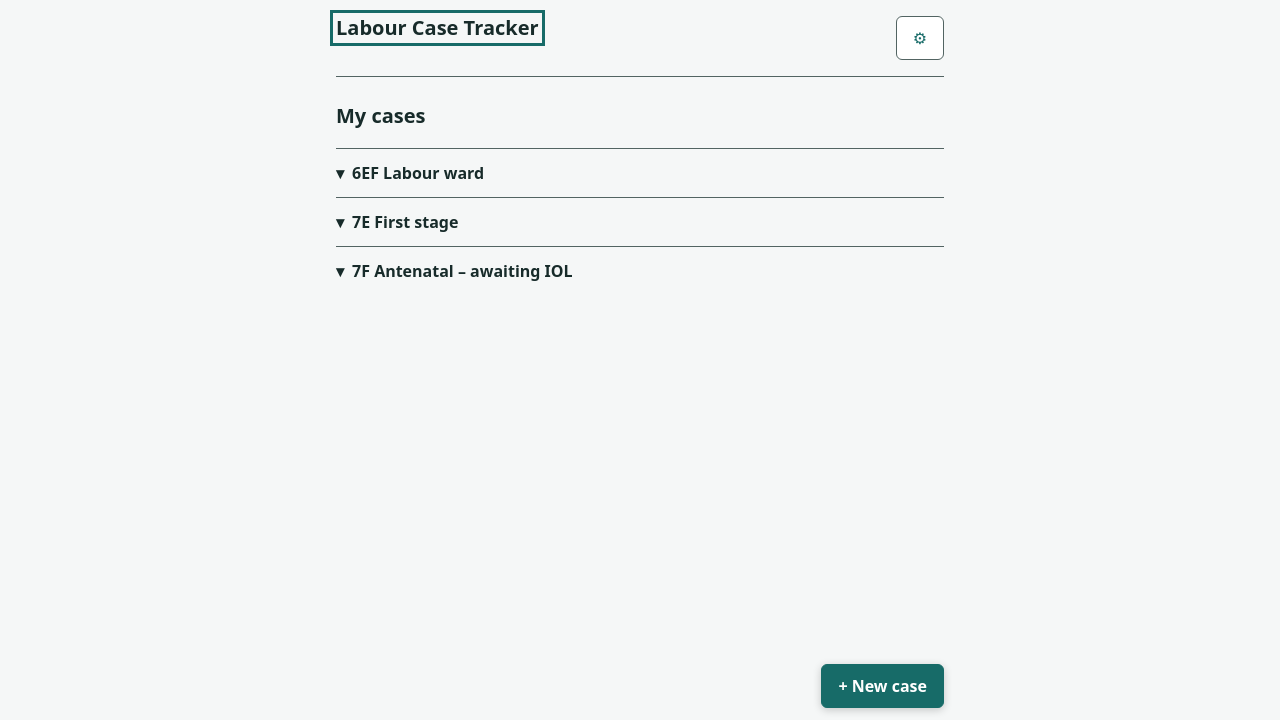
it: App › saves the dark theme, restores defaults and requires typed erase confirmation
The width and height of the screenshot is (1280, 720).
Click the button named "Settings" at coordinates (920, 38), box [896,16,944,60]
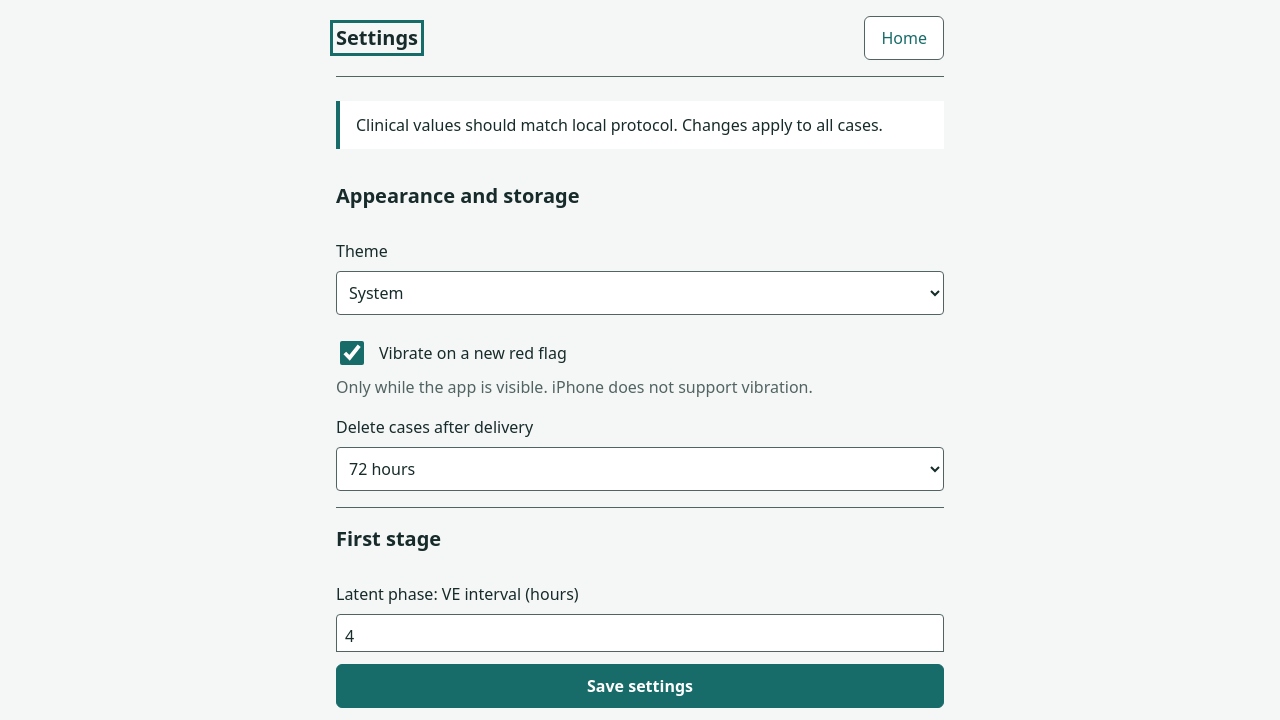
Select "Dark" in the dropdown labelled "Theme" at coordinates (640, 293), box [336,271,944,315]
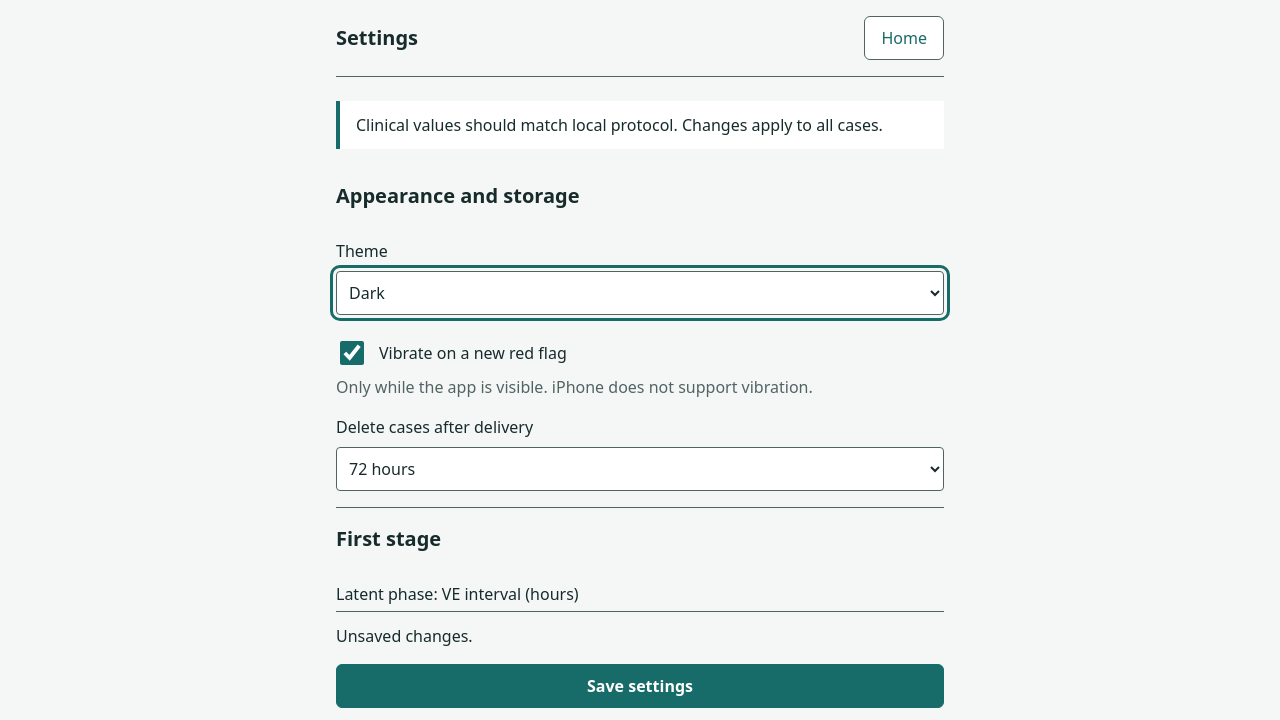
Click the button "Save settings" at coordinates (640, 686), box [336,664,944,708]
(page scrolled)
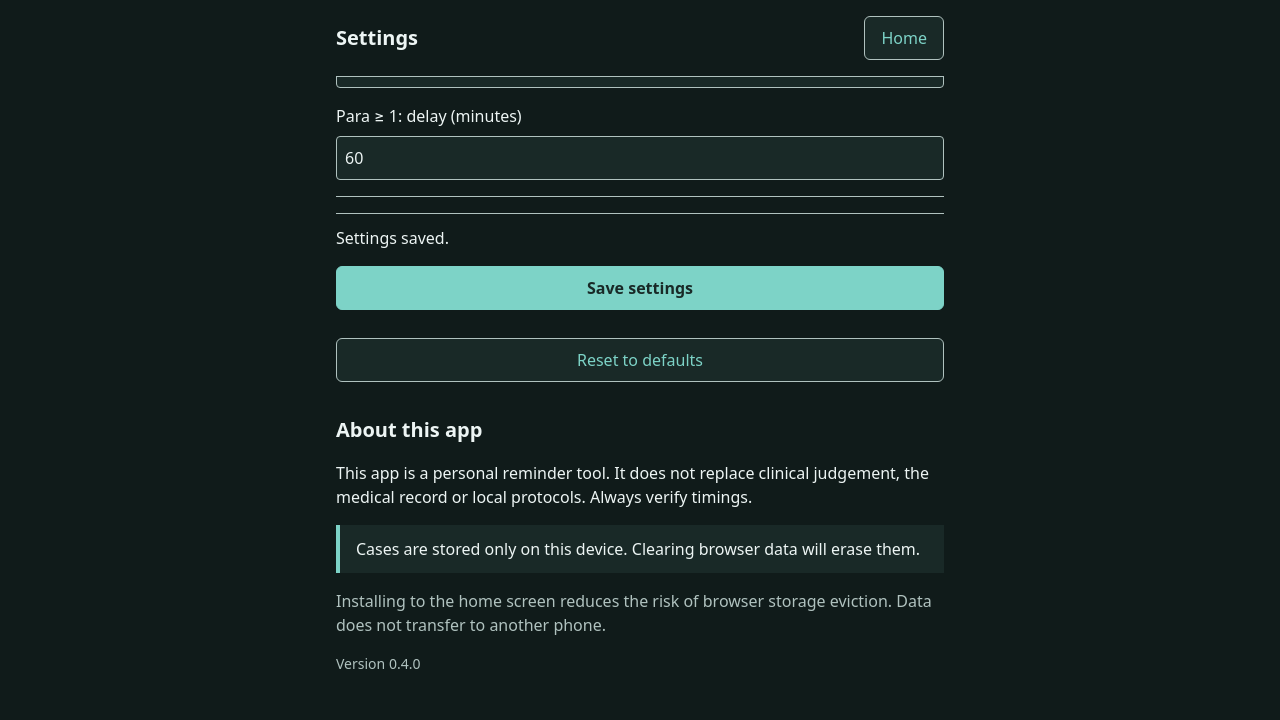
expect the text "Settings saved." is shown: met, box [336,227,449,249]
Click the button "Reset to defaults" at coordinates (640, 360), box [336,338,944,382]
(page scrolled)
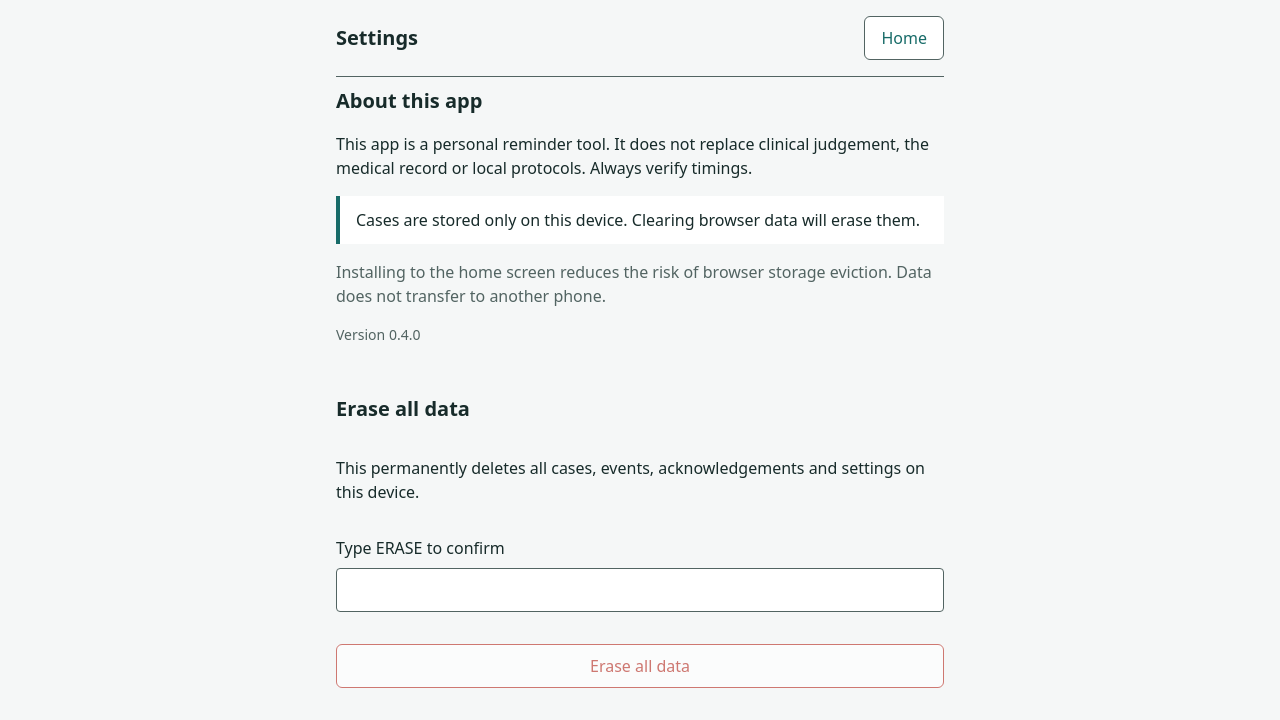
expect the button "Erase all data" is disabled: met, box [336,644,944,688]
Type "ERASE" into the field labelled "Type ERASE to confirm" at coordinates (640, 590), box [336,568,944,612]
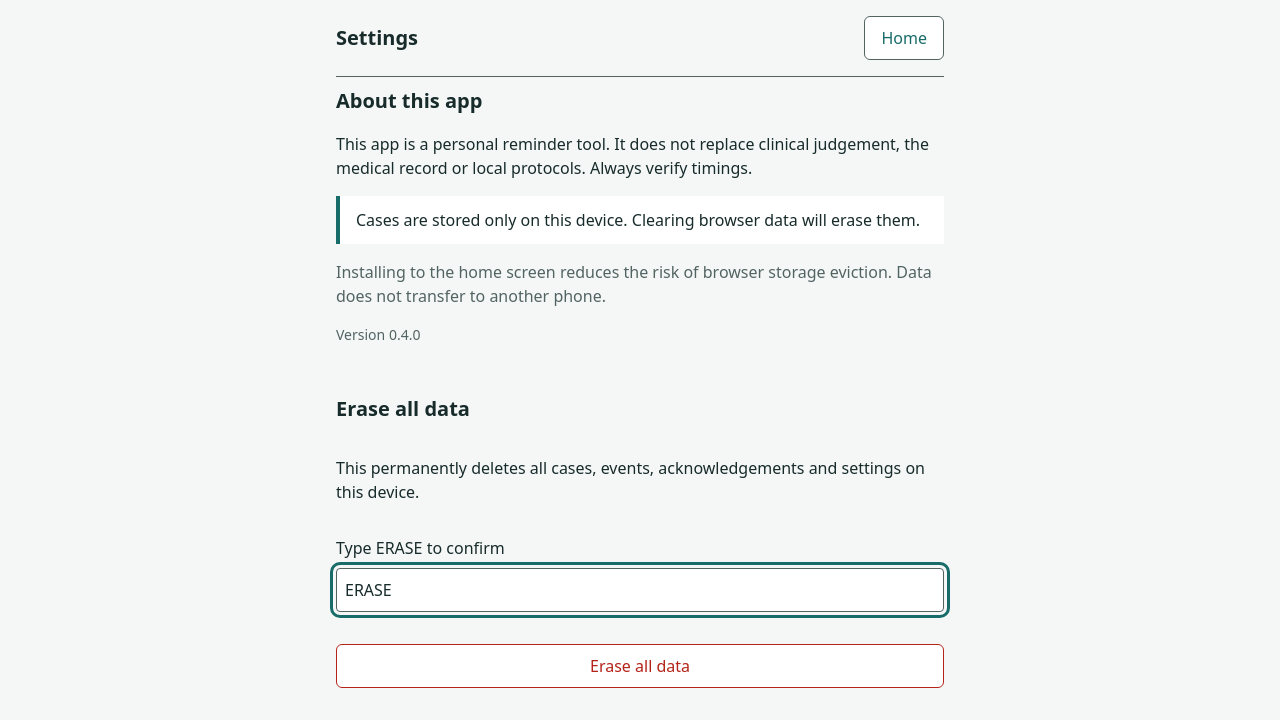
Click the button "Erase all data" at coordinates (640, 666), box [336,644,944,688]
(page scrolled)
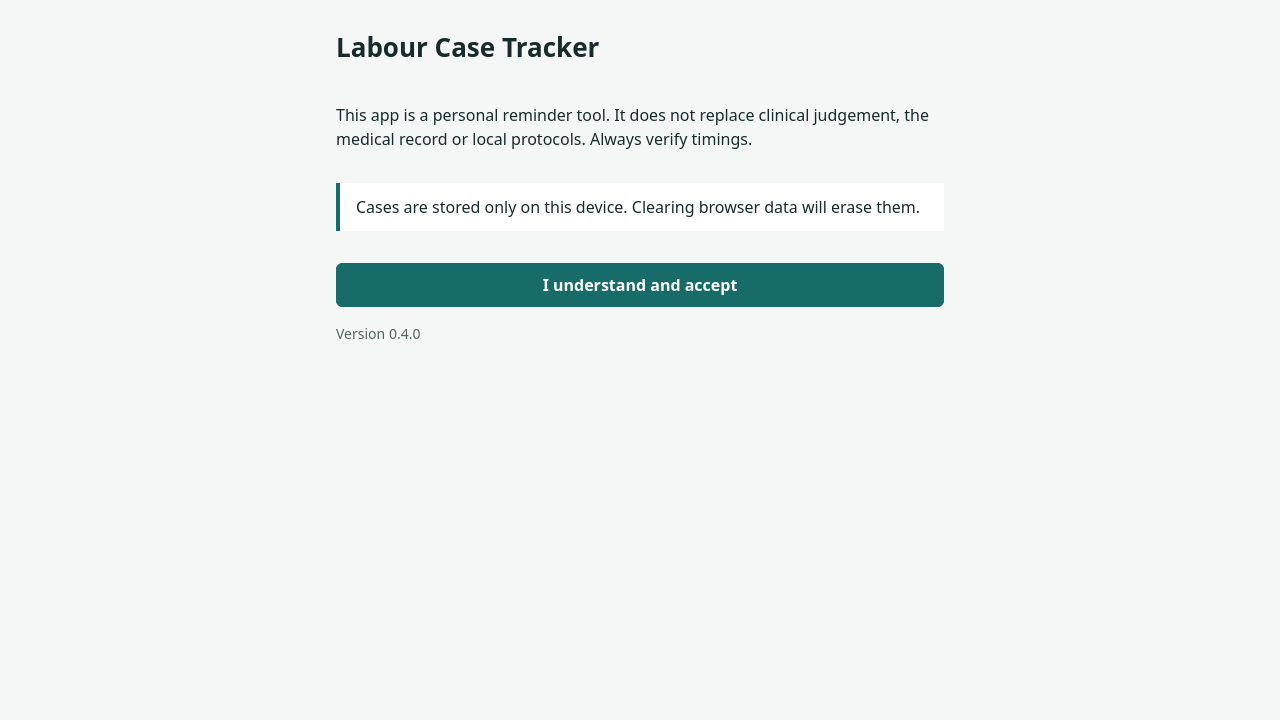
expect the button "I understand and accept" is shown: met, box [336,263,944,307]
